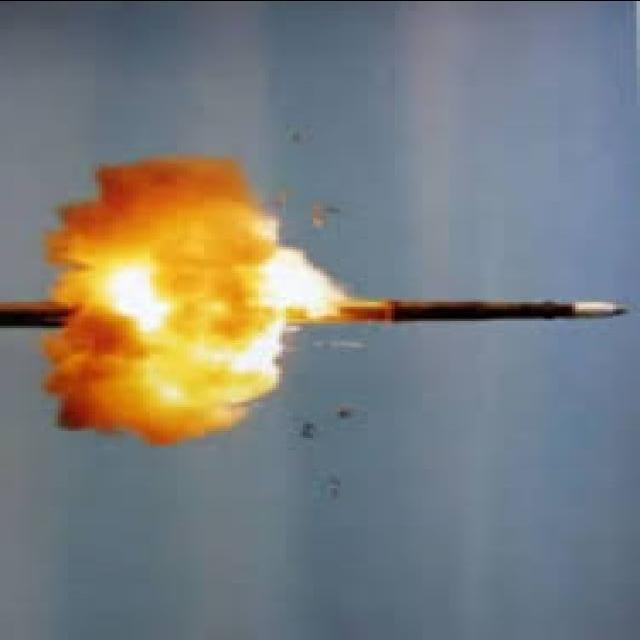missile: (300, 283, 637, 337)
